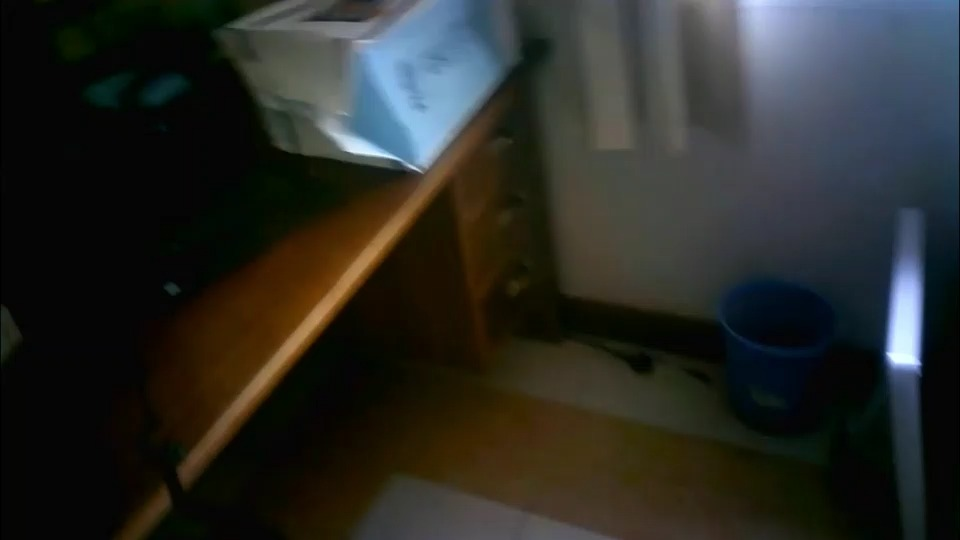wheat_flour_blue_label: (210, 2, 525, 173)
